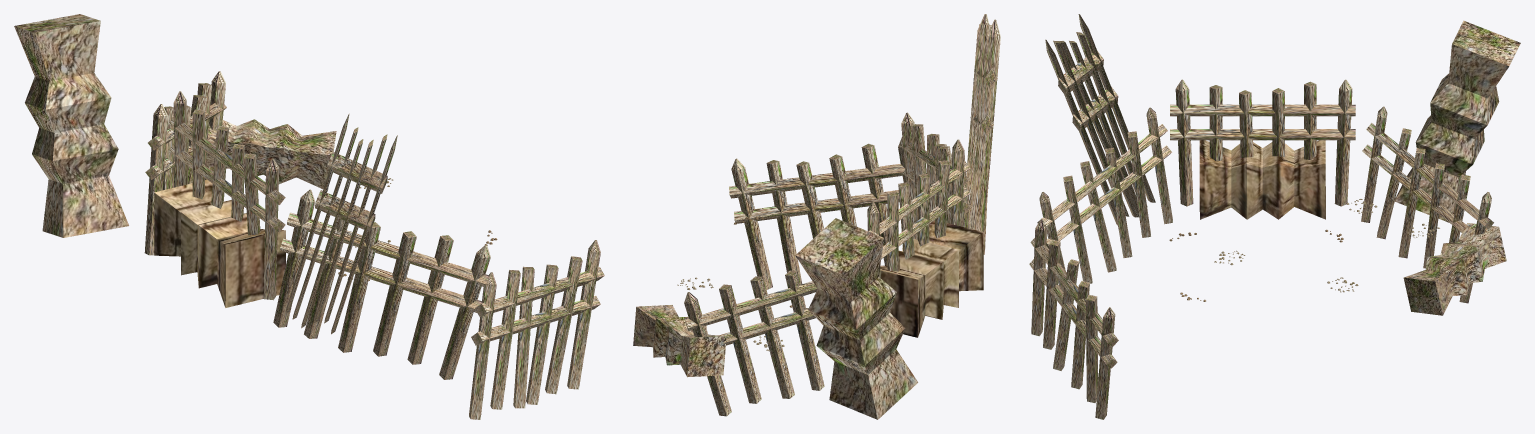
Rendered from pickup-zone.fbx.
3 views of the same model, side by side, from view 1: azimuth 30°, elevation 25°; view 2: azimuth 150°, elevation 25°; view 3: azimuth 270°, elevation 25° (orthographic). The views are drawn at different scales.
Parts seen in each view (by area): view 1: Sphere.002; view 2: Sphere.002; view 3: Sphere.002.
Part boxes in pixels (left/top/right/bottom): Sphere.002: left=14, top=14, right=604, bottom=419; Sphere.002: left=633, top=14, right=1000, bottom=419; Sphere.002: left=1029, top=14, right=1520, bottom=419.
Size of the model in its own units: 1234 by 1080 by 1596.
